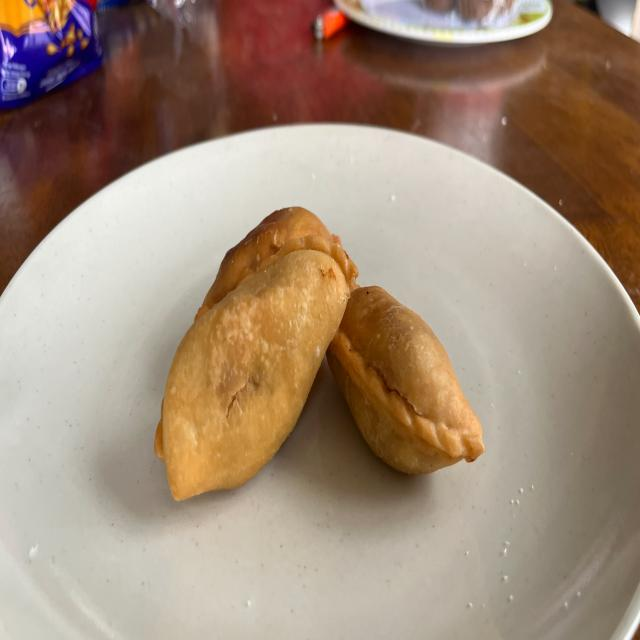karipap: (155, 236, 358, 500), (328, 287, 484, 473)
